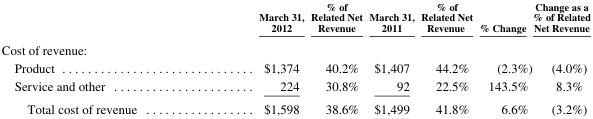table: (0, 0, 589, 116)
table column: (0, 0, 197, 116), (197, 0, 306, 116), (306, 0, 365, 116), (417, 0, 475, 116), (531, 0, 589, 116), (475, 0, 531, 116), (365, 0, 417, 116)
table column header: (0, 0, 589, 37)
table projected row header: (0, 37, 589, 58)
table row: (0, 0, 589, 37), (0, 37, 589, 58), (0, 76, 589, 97), (0, 97, 589, 116), (0, 58, 589, 76)
